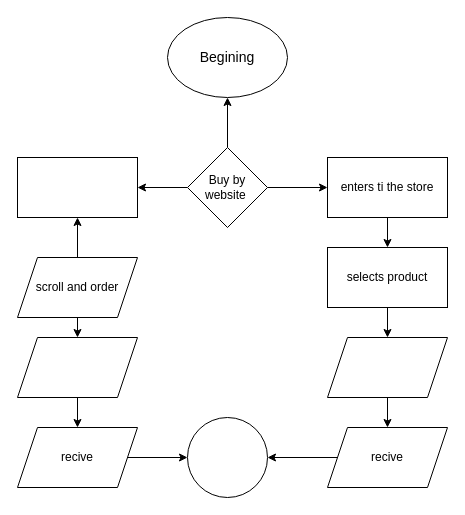
This 465x515 diagram has some shape labels left out. The shapes that lost their labels are listed below. From the top down, each one's centre as x and y in pixels, then its label:
the point at 77,187: enters to the website
the point at 77,367: pay
the point at 387,367: pays product
the point at 227,457: end
